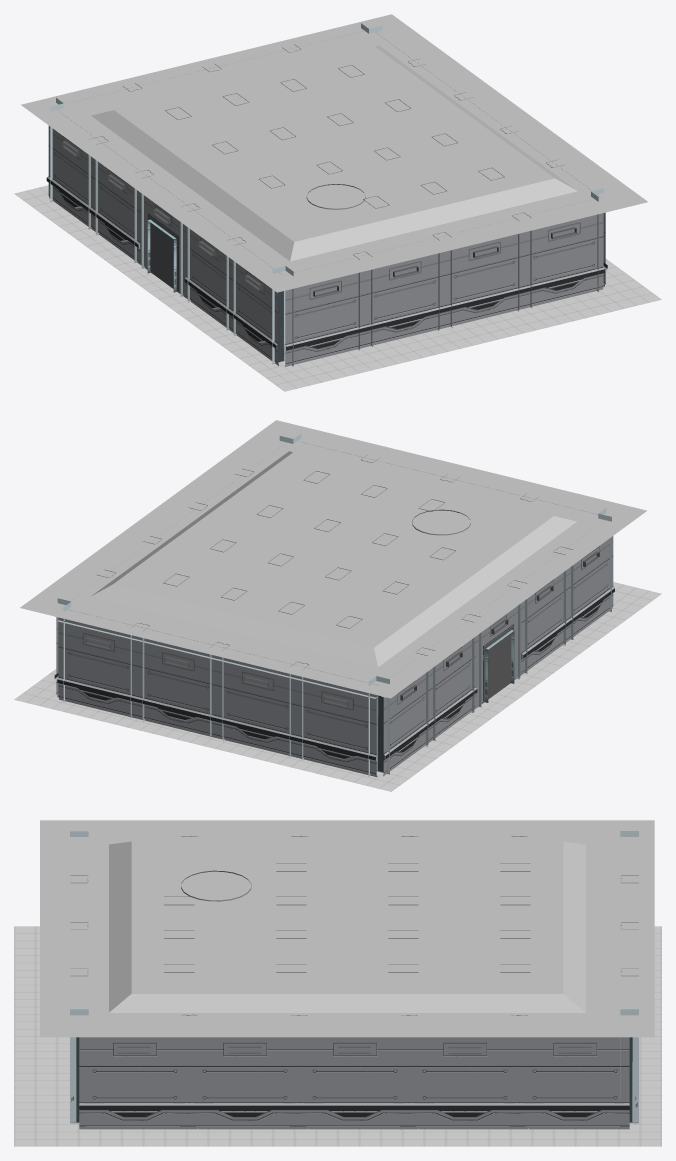
Rendered from Lab1.fbx.
The picture shows the model from 3 angles, top to bottom: view 1: azimuth 30°, elevation 25°; view 2: azimuth 150°, elevation 25°; view 3: azimuth 270°, elevation 25°; orthographic projection. The views are drawn at different scales.
Visible parts, largest first — view 1: Lab; view 2: Lab; view 3: Lab.
Part boxes in pixels (x1,y1,x2,y2): Lab: (14,14,661,391); Lab: (14,420,661,791); Lab: (14,820,661,1146).
Bounding box in the file's own units: 2846 × 733 × 3534.
